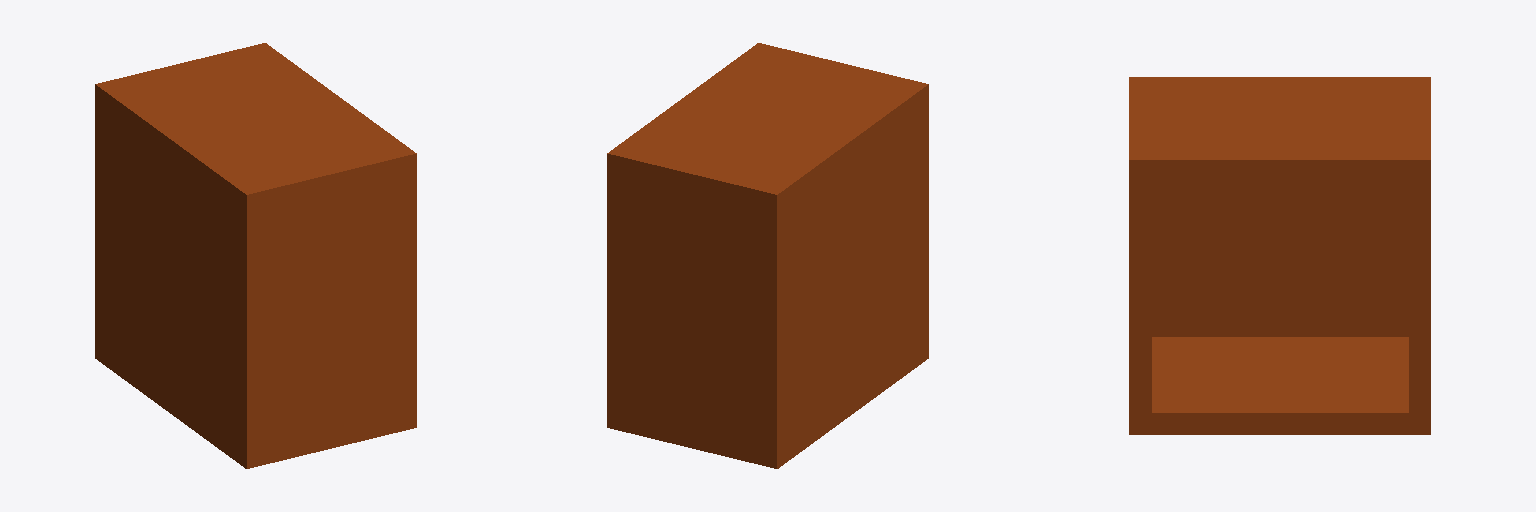
File: kitchencupboard.obj
3 renders of one model, left to right at view 1: azimuth 30°, elevation 25°; view 2: azimuth 150°, elevation 25°; view 3: azimuth 270°, elevation 25°, orthographic.
Parts seen in each view (by area): view 1: Cube; view 2: Cube; view 3: Cube.
Boxes of the visible parts, x1,y1,x2,y2 form: Cube: [95, 43, 416, 468]; Cube: [607, 43, 928, 468]; Cube: [1129, 77, 1430, 434].
Size of the model in its own units: 1.95 by 3 by 3.